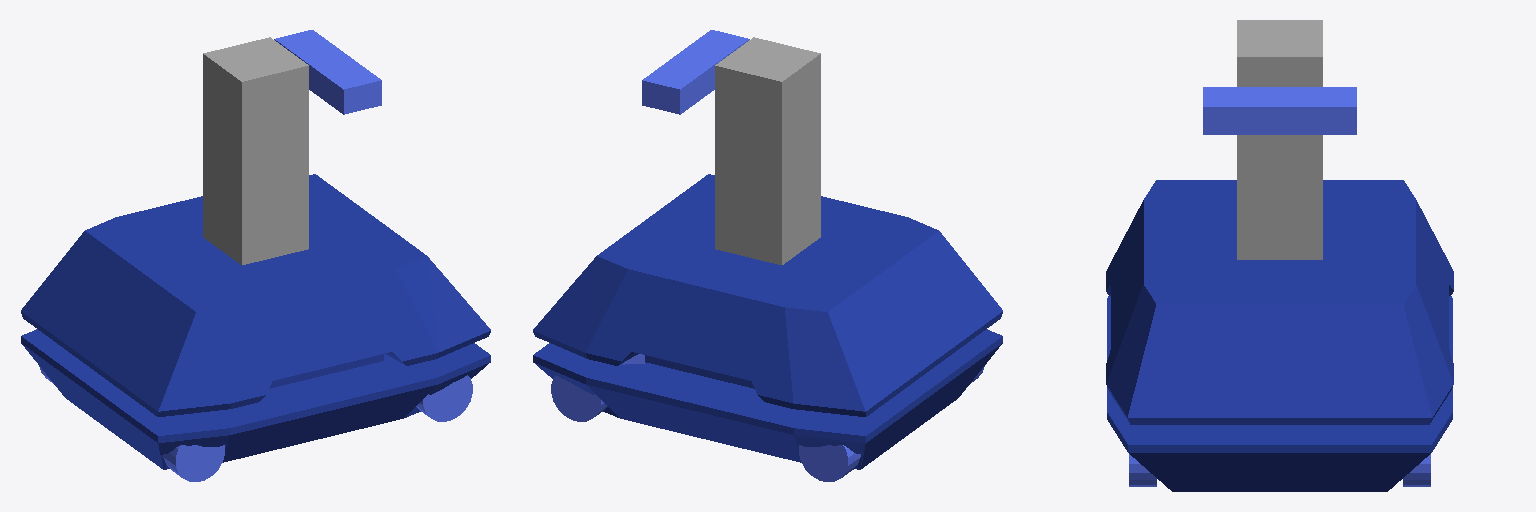
robot.urdf — moma_robot:
<?xml version="1.0" ?>
<!-- =================================================================================== -->
<!-- |    This document was autogenerated by xacro from ./robot/moma_robot.xacro       | -->
<!-- |    EDITING THIS FILE BY HAND IS NOT RECOMMENDED                                 | -->
<!-- =================================================================================== -->
<robot name="moma_robot" xmlns:xacro="http://ros.org/wiki/xacro">
  <material name="Blue">
    <color rgba="0.0 0.0 0.8 1.0"/>
  </material>
  <material name="LightBlue">
    <color rgba="0.4 0.5 1.0 1.0"/>
  </material>
  <material name="DeepBlue">
    <color rgba="0.2 0.3 0.7 1.0"/>
  </material>
  <material name="Green">
    <color rgba="0.0 0.8 0.0 1.0"/>
  </material>
  <material name="Grey">
    <color rgba="0.7 0.7 0.7 1.0"/>
  </material>
  <material name="Grey2">
    <color rgba="0.9 0.9 0.9 1.0"/>
  </material>
  <material name="Red">
    <color rgba="0.8 0.0 0.0 1.0"/>
  </material>
  <material name="White">
    <color rgba="1.0 1.0 1.0 1.0"/>
  </material>
  <material name="Black">
    <color rgba="0.1 0.1 0.1 1.0"/>
  </material>
  <material name="LightGrey">
    <color rgba="0.6 0.6 0.6 1.0"/>
  </material>
  <material name="Caster">
    <texture filename="package://pr2_description/materials/textures/pr2_caster_texture.png"/>
  </material>
  
  <link name="base_footprint">
    <visual>
      <geometry>
        <mesh filename="package://robot_bringup/description/meshes/moma_model_mesh/moma_mobile_base_visual.dae"/>
      </geometry>
      <origin rpy="0 0 3.14159265359" xyz="0.0 0.0 0.0"/>
      <material name="DeepBlue"/>
    </visual>
    <collision>
      <geometry>
        <mesh filename="package://robot_bringup/description/meshes/moma_model_mesh/moma_mobile_base_collision.stl"/>
      </geometry>
      <origin rpy="0 0 0" xyz="0.0 0.0 0.0"/>
    </collision>
  </link>
  <joint name="fl_wheel_joint" type="fixed">
    <origin rpy="0 0 0" xyz="0.2575 0.2235 0.06"/>
    <parent link="base_footprint"/>
    <child link="fl_wheel_link"/>
    <axis xyz="0 1 0"/>
  </joint>
  <link name="fl_wheel_link">
    <visual>
      <geometry>
        <mesh filename="package://robot_bringup/description/meshes/moma_model_mesh/moma_wheel_visual.dae"/>
      </geometry>
      <origin rpy="0 0 0" xyz="0.0 0.0 0.0"/>
      <material name="LightBlue"/>
    </visual>
    <collision>
      <geometry>
        <cylinder length="0.045" radius="0.052"/>
      </geometry>
      <origin rpy="1.57079632679 0 0" xyz="0.0 0.0 0.0"/>
    </collision>
  </link>
  <joint name="fr_wheel_joint" type="fixed">
    <origin rpy="0 0 0" xyz="0.2575 -0.2235 0.06"/>
    <parent link="base_footprint"/>
    <child link="fr_wheel_link"/>
    <axis xyz="0 1 0"/>
  </joint>
  <link name="fr_wheel_link">
    <visual>
      <geometry>
        <mesh filename="package://robot_bringup/description/meshes/moma_model_mesh/moma_wheel_visual.dae"/>
      </geometry>
      <origin rpy="0 0 0" xyz="0.0 0.0 0.0"/>
      <material name="LightBlue"/>
    </visual>
    <collision>
      <geometry>
        <cylinder length="0.045" radius="0.052"/>
      </geometry>
      <origin rpy="1.57079632679 0 0" xyz="0.0 0.0 0.0"/>
    </collision>
  </link>
  <joint name="bl_wheel_joint" type="fixed">
    <origin rpy="0 0 0" xyz="-0.2575 0.2235 0.06"/>
    <parent link="base_footprint"/>
    <child link="bl_wheel_link"/>
    <axis xyz="0 1 0"/>
  </joint>
  <link name="bl_wheel_link">
    <visual>
      <geometry>
        <mesh filename="package://robot_bringup/description/meshes/moma_model_mesh/moma_wheel_visual.dae"/>
      </geometry>
      <origin rpy="0 0 0" xyz="0.0 0.0 0.0"/>
      <material name="LightBlue"/>
    </visual>
    <collision>
      <geometry>
        <cylinder length="0.045" radius="0.052"/>
      </geometry>
      <origin rpy="1.57079632679 0 0" xyz="0.0 0.0 0.0"/>
    </collision>
  </link>
  <joint name="br_wheel_joint" type="fixed">
    <origin rpy="0 0 0" xyz="-0.2575 -0.2235 0.06"/>
    <parent link="base_footprint"/>
    <child link="br_wheel_link"/>
    <axis xyz="0 1 0"/>
  </joint>
  <link name="br_wheel_link">
    <visual>
      <geometry>
        <mesh filename="package://robot_bringup/description/meshes/moma_model_mesh/moma_wheel_visual.dae"/>
      </geometry>
      <origin rpy="0 0 0" xyz="0.0 0.0 0.0"/>
      <material name="LightBlue"/>
    </visual>
    <collision>
      <geometry>
        <cylinder length="0.045" radius="0.052"/>
      </geometry>
      <origin rpy="1.57079632679 0 0" xyz="0.0 0.0 0.0"/>
    </collision>
  </link>
  <joint name="F_lidar_joint" type="fixed">
    <parent link="base_footprint"/>
    <child link="F_lidar_link"/>
    <origin rpy="3.14159265359 0.0 0.628318530716" xyz="0.181 0.17285 0.13625"/>
  </joint>
  <link name="F_lidar_link">
    <visual>
      <geometry>
        <box size="0.04 0.04 0.08"/>
      </geometry>
      <origin rpy="0 0 0" xyz="0.0 0.0 0.0"/>
      <material name="LightBlue"/>
    </visual>
    <collision>
      <geometry>
        <box size="0.04 0.04 0.08"/>
      </geometry>
      <origin rpy="0 0 0" xyz="0.0 0.0 0.0"/>
      <material name="LightBlue"/>
    </collision>
  </link>
  <joint name="B_lidar_joint" type="fixed">
    <parent link="base_footprint"/>
    <child link="B_lidar_link"/>
    <origin rpy="3.14159265359 0.0 -2.51327412286" xyz="-0.181 -0.17285 0.13625"/>
  </joint>
  <link name="B_lidar_link">
    <visual>
      <geometry>
        <box size="0.04 0.04 0.08"/>
      </geometry>
      <origin rpy="0 0 0" xyz="0.0 0.0 0.0"/>
      <material name="LightBlue"/>
    </visual>
    <collision>
      <geometry>
        <box size="0.04 0.04 0.08"/>
      </geometry>
      <origin rpy="0 0 0" xyz="0.0 0.0 0.0"/>
      <material name="LightBlue"/>
    </collision>
  </link>
  <joint name="lift_base_joint" type="fixed">
    <parent link="base_footprint"/>
    <child link="lift_fix_link"/>
    <origin rpy="0.0 0.0 0.0" xyz="0.0 0.0 0.318"/>
  </joint>
  <link name="lift_fix_link">
    <visual>
      <geometry>
        <box size="0.10 0.10 0.37"/>
      </geometry>
      <origin rpy="0 0 0" xyz="0.0 0.0 0.185"/>
      <material name="Grey"/>
    </visual>
    <collision>
      <geometry>
        <box size="0.10 0.10 0.37"/>
      </geometry>
      <origin rpy="0 0 0" xyz="0.0 0.0 0.185"/>
    </collision>
  </link>
  <joint name="lift_move_joint" type="fixed">
    <parent link="lift_fix_link"/>
    <child link="lift_move_link"/>
    <origin rpy="0.0 0.0 0.0" xyz="0.0 0.0 0.0"/>
    <limit effort="250" lower="0.0" upper="0.25" velocity="0.5"/>
    <axis xyz="0 0 1"/>
  </joint>
  <link name="lift_move_link">
    <visual>
      <geometry>
        <box size="0.14 0.14 0.37"/>
      </geometry>
      <origin rpy="0 0 0" xyz="0.0 0.0 0.185"/>
      <material name="Grey"/>
    </visual>
    <collision>
      <geometry>
        <box size="0.14 0.14 0.37"/>
      </geometry>
      <origin rpy="0 0 0" xyz="0.0 0.0 0.185"/>
    </collision>
  </link>
  <joint name="global_camera_joint" type="fixed">
    <parent link="lift_move_link"/>
    <child link="global_camera_link"/>
    <origin rpy="0.0 0.0 0.0" xyz="0.15 0.0 0.31"/>
  </joint>
  <link name="global_camera_link">
    <visual>
      <geometry>
        <box size="0.08 0.25 0.05"/>
      </geometry>
      <origin rpy="0 0 0" xyz="0.0 0.0 0.0"/>
      <material name="LightBlue"/>
    </visual>
    <collision>
      <geometry>
        <box size="0.08 0.25 0.05"/>
      </geometry>
      <origin rpy="0 0 0" xyz="0.0 0.0 0.0"/>
      <material name="LightBlue"/>
    </collision>
  </link>
  <link name="base_link">
    <visual>
      <geometry>
        <mesh filename="package://ur_description/meshes/ur5/visual/base.dae"/>
      </geometry>
      <material name="LightGrey">
        <color rgba="0.7 0.7 0.7 1.0"/>
      </material>
    </visual>
    <collision>
      <geometry>
        <mesh filename="package://ur_description/meshes/ur5/collision/base.stl"/>
      </geometry>
    </collision>
    <inertial>
      <mass value="4.0"/>
      <origin rpy="0 0 0" xyz="0.0 0.0 0.0"/>
      <inertia ixx="0.00443333156" ixy="0.0" ixz="0.0" iyy="0.00443333156" iyz="0.0" izz="0.0072"/>
    </inertial>
  </link>
  <joint name="shoulder_pan_joint" type="revolute">
    <parent link="base_link"/>
    <child link="shoulder_link"/>
    <origin rpy="0.0 0.0 0.0" xyz="0.0 0.0 0.089159"/>
    <axis xyz="0 0 1"/>
    <limit effort="150.0" lower="-6.2831853" upper="6.2831853" velocity="3.15"/>
    <dynamics damping="0.0" friction="0.0"/>
  </joint>
  <link name="shoulder_link">
    <visual>
      <geometry>
        <mesh filename="package://ur_description/meshes/ur5/visual/shoulder.dae"/>
      </geometry>
      <material name="LightGrey">
        <color rgba="0.7 0.7 0.7 1.0"/>
      </material>
    </visual>
    <collision>
      <geometry>
        <mesh filename="package://ur_description/meshes/ur5/collision/shoulder.stl"/>
      </geometry>
    </collision>
    <inertial>
      <mass value="3.7"/>
      <origin rpy="0 0 0" xyz="0.0 0.0 0.0"/>
      <inertia ixx="0.010267495893" ixy="0.0" ixz="0.0" iyy="0.010267495893" iyz="0.0" izz="0.00666"/>
    </inertial>
  </link>
  <joint name="shoulder_lift_joint" type="revolute">
    <parent link="shoulder_link"/>
    <child link="upper_arm_link"/>
    <origin rpy="0.0 1.570796325 0.0" xyz="0.0 0.13585 0.0"/>
    <axis xyz="0 1 0"/>
    <limit effort="150.0" lower="-6.2831853" upper="6.2831853" velocity="3.15"/>
    <dynamics damping="0.0" friction="0.0"/>
  </joint>
  <link name="upper_arm_link">
    <visual>
      <geometry>
        <mesh filename="package://ur_description/meshes/ur5/visual/upperarm.dae"/>
      </geometry>
      <material name="LightGrey">
        <color rgba="0.7 0.7 0.7 1.0"/>
      </material>
    </visual>
    <collision>
      <geometry>
        <mesh filename="package://ur_description/meshes/ur5/collision/upperarm.stl"/>
      </geometry>
    </collision>
    <inertial>
      <mass value="8.393"/>
      <origin rpy="0 0 0" xyz="0.0 0.0 0.28"/>
      <inertia ixx="0.22689067591" ixy="0.0" ixz="0.0" iyy="0.22689067591" iyz="0.0" izz="0.0151074"/>
    </inertial>
  </link>
  <joint name="elbow_joint" type="revolute">
    <parent link="upper_arm_link"/>
    <child link="forearm_link"/>
    <origin rpy="0.0 0.0 0.0" xyz="0.0 -0.1197 0.425"/>
    <axis xyz="0 1 0"/>
    <limit effort="150.0" lower="-6.2831853" upper="6.2831853" velocity="3.15"/>
    <dynamics damping="0.0" friction="0.0"/>
  </joint>
  <link name="forearm_link">
    <visual>
      <geometry>
        <mesh filename="package://ur_description/meshes/ur5/visual/forearm.dae"/>
      </geometry>
      <material name="LightGrey">
        <color rgba="0.7 0.7 0.7 1.0"/>
      </material>
    </visual>
    <collision>
      <geometry>
        <mesh filename="package://ur_description/meshes/ur5/collision/forearm.stl"/>
      </geometry>
    </collision>
    <inertial>
      <mass value="2.275"/>
      <origin rpy="0 0 0" xyz="0.0 0.0 0.25"/>
      <inertia ixx="0.049443313556" ixy="0.0" ixz="0.0" iyy="0.049443313556" iyz="0.0" izz="0.004095"/>
    </inertial>
  </link>
  <joint name="wrist_1_joint" type="revolute">
    <parent link="forearm_link"/>
    <child link="wrist_1_link"/>
    <origin rpy="0.0 1.570796325 0.0" xyz="0.0 0.0 0.39225"/>
    <axis xyz="0 1 0"/>
    <limit effort="28.0" lower="-6.2831853" upper="6.2831853" velocity="3.2"/>
    <dynamics damping="0.0" friction="0.0"/>
  </joint>
  <link name="wrist_1_link">
    <visual>
      <geometry>
        <mesh filename="package://ur_description/meshes/ur5/visual/wrist1.dae"/>
      </geometry>
      <material name="LightGrey">
        <color rgba="0.7 0.7 0.7 1.0"/>
      </material>
    </visual>
    <collision>
      <geometry>
        <mesh filename="package://ur_description/meshes/ur5/collision/wrist1.stl"/>
      </geometry>
    </collision>
    <inertial>
      <mass value="1.219"/>
      <origin rpy="0 0 0" xyz="0.0 0.0 0.0"/>
      <inertia ixx="0.111172755531" ixy="0.0" ixz="0.0" iyy="0.111172755531" iyz="0.0" izz="0.21942"/>
    </inertial>
  </link>
  <joint name="wrist_2_joint" type="revolute">
    <parent link="wrist_1_link"/>
    <child link="wrist_2_link"/>
    <origin rpy="0.0 0.0 0.0" xyz="0.0 0.093 0.0"/>
    <axis xyz="0 0 1"/>
    <limit effort="28.0" lower="-6.2831853" upper="6.2831853" velocity="3.2"/>
    <dynamics damping="0.0" friction="0.0"/>
  </joint>
  <link name="wrist_2_link">
    <visual>
      <geometry>
        <mesh filename="package://ur_description/meshes/ur5/visual/wrist2.dae"/>
      </geometry>
      <material name="LightGrey">
        <color rgba="0.7 0.7 0.7 1.0"/>
      </material>
    </visual>
    <collision>
      <geometry>
        <mesh filename="package://ur_description/meshes/ur5/collision/wrist2.stl"/>
      </geometry>
    </collision>
    <inertial>
      <mass value="1.219"/>
      <origin rpy="0 0 0" xyz="0.0 0.0 0.0"/>
      <inertia ixx="0.111172755531" ixy="0.0" ixz="0.0" iyy="0.111172755531" iyz="0.0" izz="0.21942"/>
    </inertial>
  </link>
  <joint name="wrist_3_joint" type="revolute">
    <parent link="wrist_2_link"/>
    <child link="wrist_3_link"/>
    <origin rpy="0.0 0.0 0.0" xyz="0.0 0.0 0.09465"/>
    <axis xyz="0 1 0"/>
    <limit effort="28.0" lower="-6.2831853" upper="6.2831853" velocity="3.2"/>
    <dynamics damping="0.0" friction="0.0"/>
  </joint>
  <link name="wrist_3_link">
    <visual>
      <geometry>
        <mesh filename="package://ur_description/meshes/ur5/visual/wrist3.dae"/>
      </geometry>
      <material name="LightGrey">
        <color rgba="0.7 0.7 0.7 1.0"/>
      </material>
    </visual>
    <collision>
      <geometry>
        <mesh filename="package://ur_description/meshes/ur5/collision/wrist3.stl"/>
      </geometry>
    </collision>
    <inertial>
      <mass value="0.1879"/>
      <origin rpy="0 0 0" xyz="0.0 0.0 0.0"/>
      <inertia ixx="0.0171364731454" ixy="0.0" ixz="0.0" iyy="0.0171364731454" iyz="0.0" izz="0.033822"/>
    </inertial>
  </link>
  <joint name="ee_fixed_joint" type="fixed">
    <parent link="wrist_3_link"/>
    <child link="ee_link"/>
    <origin rpy="0.0 0.0 1.570796325" xyz="0.0 0.0823 0.0"/>
  </joint>
  <link name="ee_link">
    <collision>
      <geometry>
        <box size="0.01 0.01 0.01"/>
      </geometry>
      <origin rpy="0 0 0" xyz="-0.01 0 0"/>
    </collision>
  </link>
  <transmission name="shoulder_pan_trans">
    <type>transmission_interface/SimpleTransmission</type>
    <joint name="shoulder_pan_joint">
      <hardwareInterface>PositionJointInterface</hardwareInterface>
    </joint>
    <actuator name="shoulder_pan_motor">
      <mechanicalReduction>1</mechanicalReduction>
    </actuator>
  </transmission>
  <transmission name="shoulder_lift_trans">
    <type>transmission_interface/SimpleTransmission</type>
    <joint name="shoulder_lift_joint">
      <hardwareInterface>PositionJointInterface</hardwareInterface>
    </joint>
    <actuator name="shoulder_lift_motor">
      <mechanicalReduction>1</mechanicalReduction>
    </actuator>
  </transmission>
  <transmission name="elbow_trans">
    <type>transmission_interface/SimpleTransmission</type>
    <joint name="elbow_joint">
      <hardwareInterface>PositionJointInterface</hardwareInterface>
    </joint>
    <actuator name="elbow_motor">
      <mechanicalReduction>1</mechanicalReduction>
    </actuator>
  </transmission>
  <transmission name="wrist_1_trans">
    <type>transmission_interface/SimpleTransmission</type>
    <joint name="wrist_1_joint">
      <hardwareInterface>PositionJointInterface</hardwareInterface>
    </joint>
    <actuator name="wrist_1_motor">
      <mechanicalReduction>1</mechanicalReduction>
    </actuator>
  </transmission>
  <transmission name="wrist_2_trans">
    <type>transmission_interface/SimpleTransmission</type>
    <joint name="wrist_2_joint">
      <hardwareInterface>PositionJointInterface</hardwareInterface>
    </joint>
    <actuator name="wrist_2_motor">
      <mechanicalReduction>1</mechanicalReduction>
    </actuator>
  </transmission>
  <transmission name="wrist_3_trans">
    <type>transmission_interface/SimpleTransmission</type>
    <joint name="wrist_3_joint">
      <hardwareInterface>PositionJointInterface</hardwareInterface>
    </joint>
    <actuator name="wrist_3_motor">
      <mechanicalReduction>1</mechanicalReduction>
    </actuator>
  </transmission>
  
  <joint name="wrist_3_link-tool0_fixed_joint" type="fixed">
    <origin rpy="-1.570796325 0 0" xyz="0 0.0823 0"/>
    <parent link="wrist_3_link"/>
    <child link="tool0"/>
  </joint>
  <link name="tool0"/>

  <!-- ========== Add dorahand here ========== -->

  <joint name="dh_hand_link-tool0_fixed_joint" type="fixed">
    <origin rpy="1.570796325 -1.570796325 1.570796325" xyz="0 0 0"/>
    <parent link="tool0"/>
    <child link="dh_hand_link"/>
  </joint>


  <joint name="last_joint" type="fixed">
    <origin rpy="1.570796325 0 1.570796325" xyz="0.21 0 0.04"/>
    <parent link="dh_hand_link"/>
    <child link="gripper_ee_link"/>
  </joint>

  <link name="gripper_ee_link">
  </link>

  <link name="dh_hand_link">
    <visual>
      <geometry>
        <mesh filename="package://robot_bringup/description/dorahand_model/dorahand.obj"/>
      </geometry>
    </visual>
    <collision>
      <geometry>
        <mesh filename="package://robot_bringup/description/dorahand_model/dorahand_simple.obj"/>
      </geometry>
    </collision>
  </link>

  <!-- ========== Add dorahand over ========== -->

  <joint name="arm_lift_joint" type="fixed">
    <parent link="lift_move_link"/>
    <child link="base_link"/>
    <origin rpy="0.0 0.0 0.0" xyz="0.0 0.0 0.37"/>
  </joint>


 </robot>

--- What the picture shows (computed from the rendered views, not written in the file) ---
3 views of the same robot in one strip: view 1: azimuth 30°, elevation 25°; view 2: azimuth 150°, elevation 25°; view 3: azimuth 270°, elevation 25° (orthographic).
Model moma_robot with 21 links and 20 joints (6 revolute, 14 fixed), rooted at base_footprint, posed every joint at zero.
Links seen in each view (by area): view 1: base_footprint, lift_move_link, global_camera_link, br_wheel_link, fr_wheel_link; view 2: base_footprint, lift_move_link, global_camera_link, bl_wheel_link, fl_wheel_link, lift_fix_link; view 3: base_footprint, lift_move_link, global_camera_link, lift_fix_link, fl_wheel_link, fr_wheel_link.
Boxes of the visible links, <box> form: base_footprint: <box>21,174,490,469</box>; lift_move_link: <box>203,37,308,264</box>; global_camera_link: <box>274,30,381,114</box>; br_wheel_link: <box>163,445,224,481</box>; fr_wheel_link: <box>416,375,472,421</box>; base_footprint: <box>533,174,1002,469</box>; lift_move_link: <box>715,37,820,264</box>; global_camera_link: <box>642,30,749,114</box>; bl_wheel_link: <box>799,445,860,481</box>; fl_wheel_link: <box>551,375,607,421</box>; lift_fix_link: <box>731,44,805,74</box>; base_footprint: <box>1106,180,1453,491</box>; lift_move_link: <box>1237,20,1322,259</box>; global_camera_link: <box>1203,87,1356,134</box>; lift_fix_link: <box>1249,26,1310,51</box>; fl_wheel_link: <box>1403,454,1430,486</box>; fr_wheel_link: <box>1129,454,1156,486</box>.
Size in the robot's own frame: 0.6934 by 0.5661 by 0.6795 metres.
Meshes: 10 distinct files referenced, 5 mesh visuals loaded (2 Collada DAE); not drawn: 8 (reference not matched to a file when rendering).